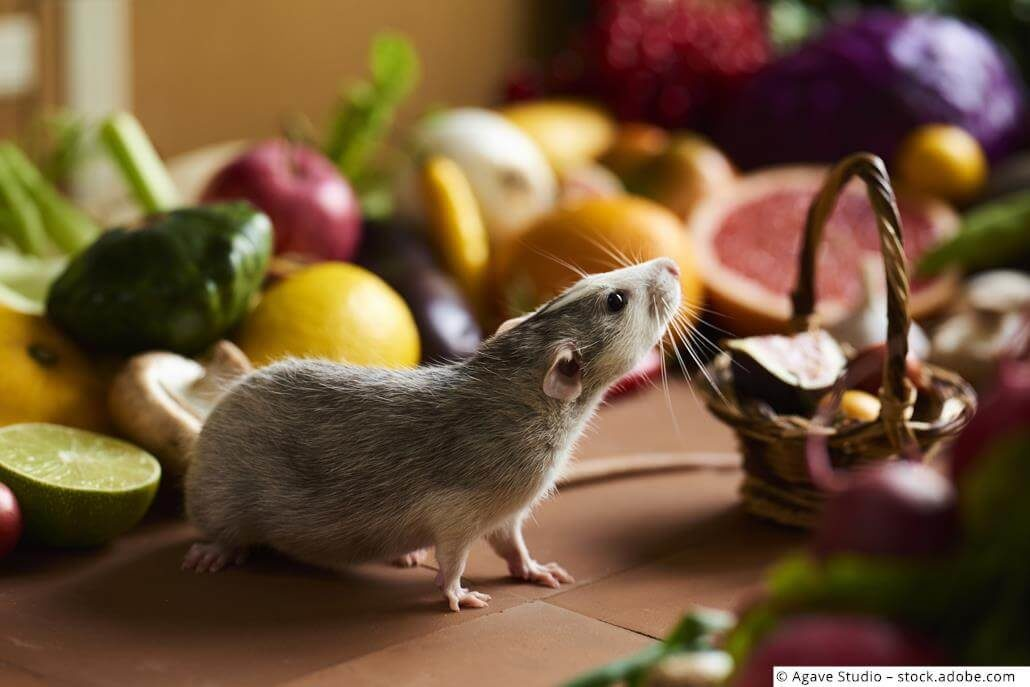rat: (160, 247, 716, 628)
